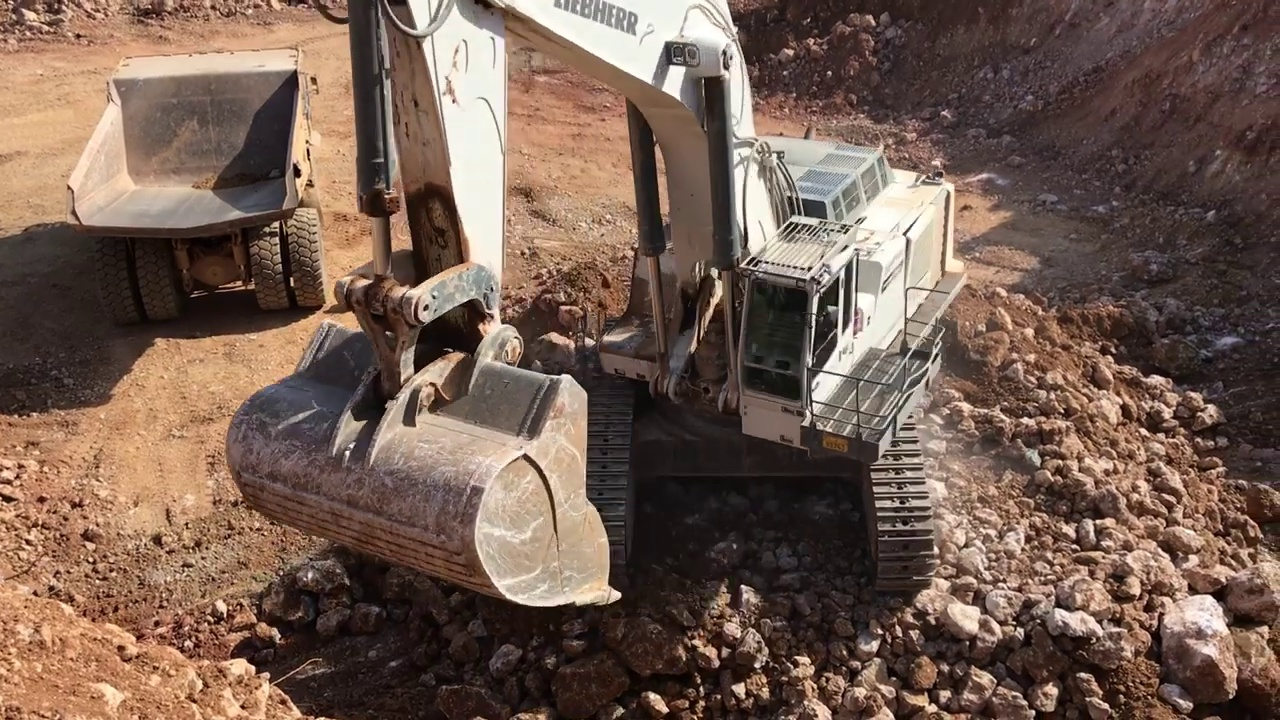dumper: (66, 48, 324, 313)
excavator: (224, 2, 967, 610)
